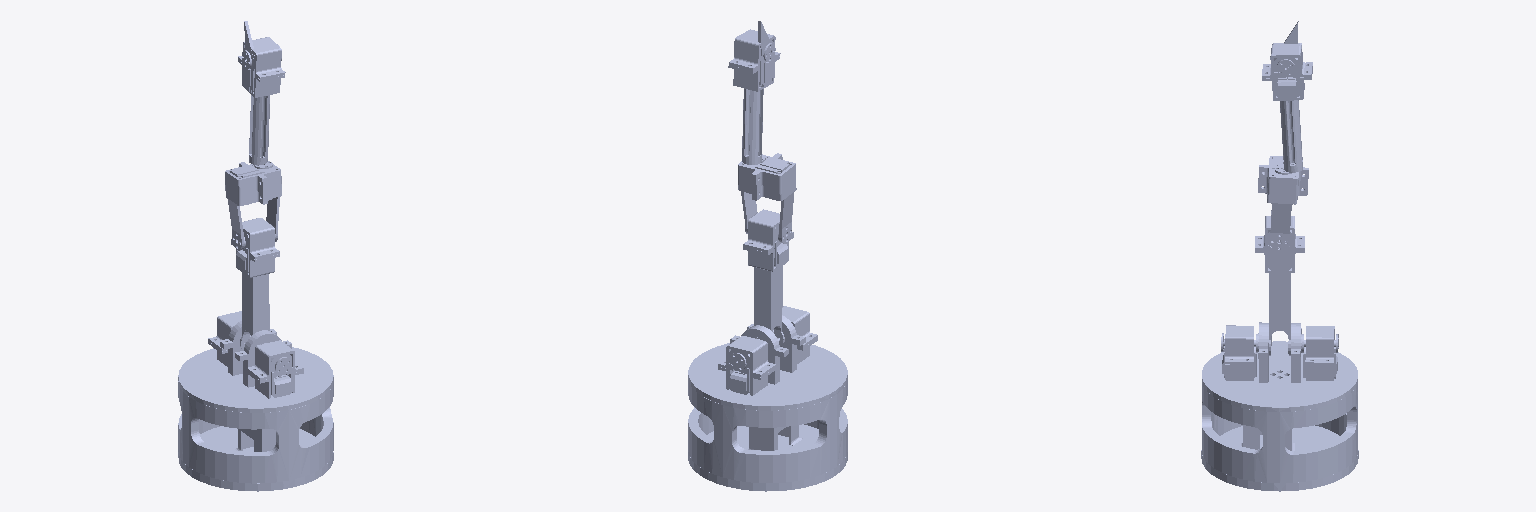
The robot description file, URDF, robot "robot_arm":
<?xml version="1.0" encoding="utf-8"?>
<!-- This URDF was automatically created by SolidWorks to URDF Exporter! Originally created by Stephen Brawner (brawner@gmail.com) 
     Commit Version: 1.6.0-4-g7f85cfe  Build Version: 1.6.7995.38578
     For more information, please see http://wiki.ros.org/sw_urdf_exporter -->
<robot
  name="robot_arm">
  <link
    name="base_link">
    <inertial>
      <origin
        xyz="-3.4691E-09 -0.0013733 0.007543"
        rpy="0 0 0" />
      <mass
        value="0.19807" />
      <inertia
        ixx="0.00032121"
        ixy="-2.33E-11"
        ixz="3.277E-12"
        iyy="0.00031349"
        iyz="7.6169E-06"
        izz="0.0005892" />
    </inertial>
    <visual>
      <origin
        xyz="0 0 0"
        rpy="0 0 0" />
      <geometry>
        <mesh
          filename="package://robot_arm/meshes/base_link.STL" />
      </geometry>
      <material
        name="">
        <color
          rgba="0.79216 0.81961 0.93333 1" />
      </material>
    </visual>
    <collision>
      <origin
        xyz="0 0 0"
        rpy="0 0 0" />
      <geometry>
        <mesh
          filename="package://robot_arm/meshes/base_link.STL" />
      </geometry>
    </collision>
  </link>
  <link
    name="Link_1">
    <inertial>
      <origin
        xyz="-1.5478E-17 -4.4748E-17 0.011342"
        rpy="0 0 0" />
      <mass
        value="0.24066" />
      <inertia
        ixx="0.00021961"
        ixy="-3.0281E-07"
        ixz="-7.6215E-20"
        iyy="0.0002036"
        iyz="-7.857E-19"
        izz="0.00037108" />
    </inertial>
    <visual>
      <origin
        xyz="0 0 0"
        rpy="0 0 0" />
      <geometry>
        <mesh
          filename="package://robot_arm/meshes/Link_1.STL" />
      </geometry>
      <material
        name="">
        <color
          rgba="0.79216 0.81961 0.93333 1" />
      </material>
    </visual>
    <collision>
      <origin
        xyz="0 0 0"
        rpy="0 0 0" />
      <geometry>
        <mesh
          filename="package://robot_arm/meshes/Link_1.STL" />
      </geometry>
    </collision>
  </link>
  <joint
    name="Joint_1"
    type="revolute">
    <origin
      xyz="0 0 0.0941"
      rpy="0 0 0" />
    <parent
      link="base_link" />
    <child
      link="Link_1" />
    <axis
      xyz="0 0 1" />
    <limit
      lower="-3.14"
      upper="3.14"
      effort="0"
      velocity="0" />
  </joint>
  <link
    name="Link_2">
    <inertial>
      <origin
        xyz="0.080358 0.0005424 0.0088242"
        rpy="0 0 0" />
      <mass
        value="0.090401" />
      <inertia
        ixx="1.3539E-05"
        ixy="-3.1808E-07"
        ixz="6.0163E-09"
        iyy="6.7249E-05"
        iyz="-5.9616E-08"
        izz="6.4097E-05" />
    </inertial>
    <visual>
      <origin
        xyz="0 0 0"
        rpy="0 0 0" />
      <geometry>
        <mesh
          filename="package://robot_arm/meshes/Link_2.STL" />
      </geometry>
      <material
        name="">
        <color
          rgba="0.79216 0.81961 0.93333 1" />
      </material>
    </visual>
    <collision>
      <origin
        xyz="0 0 0"
        rpy="0 0 0" />
      <geometry>
        <mesh
          filename="package://robot_arm/meshes/Link_2.STL" />
      </geometry>
    </collision>
  </link>
  <joint
    name="Joint_2"
    type="revolute">
    <origin
      xyz="0.00017175 0.0088483 0.034334"
      rpy="1.5708 -1.5708 0" />
    <parent
      link="Link_1" />
    <child
      link="Link_2" />
    <axis
      xyz="0 0 1" />
    <limit
      lower="-1.57"
      upper="1.57"
      effort="0"
      velocity="0" />
  </joint>
  <link
    name="Link_3">
    <inertial>
      <origin
        xyz="0.0541062471270772 -0.00354604381686915 -0.0220064974845355"
        rpy="0 0 0" />
      <mass
        value="0.05696273993258" />
      <inertia
        ixx="1.25532493264705E-05"
        ixy="4.038810934172E-07"
        ixz="2.95850913058183E-08"
        iyy="1.95793004928046E-05"
        iyz="-4.25743374682629E-08"
        izz="1.74776992259823E-05" />
    </inertial>
    <visual>
      <origin
        xyz="0 0 0"
        rpy="0 0 0" />
      <geometry>
        <mesh
          filename="package://robot_arm/meshes/Link_3.STL" />
      </geometry>
      <material
        name="">
        <color
          rgba="0.792156862745098 0.819607843137255 0.933333333333333 1" />
      </material>
    </visual>
    <collision>
      <origin
        xyz="0 0 0"
        rpy="0 0 0" />
      <geometry>
        <mesh
          filename="package://robot_arm/meshes/Link_3.STL" />
      </geometry>
    </collision>
  </link>
  <joint
    name="Joint_3"
    type="revolute">
    <origin
      xyz="0.12513 -0.020736 0.0091349"
      rpy="1.5708 0 0" />
    <parent
      link="Link_2" />
    <child
      link="Link_3" />
    <axis
      xyz="0 0 1" />
    <limit
      lower="-1.57"
      upper="1.57"
      effort="0"
      velocity="0" />
  </joint>
  <link
    name="Link_4">
    <inertial>
      <origin
        xyz="7.52705426133402E-05 0.000462811756834552 0.00858695671693732"
        rpy="0 0 0" />
      <mass
        value="0.0674532689964479" />
      <inertia
        ixx="3.93720710688711E-05"
        ixy="-4.83208580470525E-08"
        ixz="1.50463738848548E-07"
        iyy="3.82051496112177E-05"
        iyz="-1.63505049750872E-06"
        izz="9.77717247497827E-06" />
    </inertial>
    <visual>
      <origin
        xyz="0 0 0"
        rpy="0 0 0" />
      <geometry>
        <mesh
          filename="package://robot_arm/meshes/Link_4.STL" />
      </geometry>
      <material
        name="">
        <color
          rgba="0.792156862745098 0.819607843137255 0.933333333333333 1" />
      </material>
    </visual>
    <collision>
      <origin
        xyz="0 0 0"
        rpy="0 0 0" />
      <geometry>
        <mesh
          filename="package://robot_arm/meshes/Link_4.STL" />
      </geometry>
    </collision>
  </link>
  <joint
    name="Joint_4"
    type="revolute">
    <origin
      xyz="0.16019 -0.0093985 -0.0098166"
      rpy="0 1.5708 0" />
    <parent
      link="Link_3" />
    <child
      link="Link_4" />
    <axis
      xyz="0 0 1" />
    <limit
      lower="-3.14"
      upper="3.14"
      effort="0"
      velocity="0" />
  </joint>
  <link
    name="End_Effector">
    <inertial>
      <origin
        xyz="0.00878258139730009 -0.00234120487883826 0.00381053635874969"
        rpy="0 0 0" />
      <mass
        value="0.00185906518982787" />
      <inertia
        ixx="5.36992775192672E-08"
        ixy="5.49967375111194E-08"
        ixz="-1.1655036355356E-09"
        iyy="2.27532299935667E-07"
        iyz="2.18796546028271E-09"
        izz="2.77224509924143E-07" />
    </inertial>
    <visual>
      <origin
        xyz="0 0 0"
        rpy="0 0 0" />
      <geometry>
        <mesh
          filename="package://robot_arm/meshes/End_Effector.STL" />
      </geometry>
      <material
        name="">
        <color
          rgba="0.792156862745098 0.819607843137255 0.933333333333333 1" />
      </material>
    </visual>
    <collision>
      <origin
        xyz="0 0 0"
        rpy="0 0 0" />
      <geometry>
        <mesh
          filename="package://robot_arm/meshes/End_Effector.STL" />
      </geometry>
    </collision>
  </link>
  <joint
    name="Joint_5"
    type="revolute">
    <origin
      xyz="0.016421 0.0012653 0.038182"
      rpy="0 -1.5708 0" />
    <parent
      link="Link_4" />
    <child
      link="End_Effector" />
    <axis
      xyz="0 0 1" />
    <limit
      lower="-1.57"
      upper="1.57"
      effort="0"
      velocity="0" />
  </joint>
</robot>

--- Facts derived from the render (not from the file) ---
Views: 3 orthographic renders of the robot side by side, from view 1: azimuth 30°, elevation 25°; view 2: azimuth 150°, elevation 25°; view 3: azimuth 270°, elevation 25°.
Robot: robot_arm — 6 links, 5 joints (5 revolute); root link base_link; default pose: all joints at 0.
Visible links, largest first — view 1: base_link, Link_1, Link_2, Link_4, Link_3; view 2: base_link, Link_1, Link_2, Link_4, Link_3; view 3: base_link, Link_1, Link_4, Link_2, Link_3.
Boxes of the visible links, <box> form: base_link: <box>178,381,333,491</box>; Link_1: <box>178,311,333,412</box>; Link_2: <box>231,218,279,350</box>; Link_4: <box>238,37,285,164</box>; Link_3: <box>225,161,281,250</box>; base_link: <box>688,379,847,491</box>; Link_1: <box>688,306,847,410</box>; Link_2: <box>743,209,793,346</box>; Link_4: <box>728,29,780,164</box>; Link_3: <box>738,153,796,243</box>; base_link: <box>1201,384,1358,491</box>; Link_1: <box>1202,322,1357,411</box>; Link_4: <box>1262,43,1312,172</box>; Link_2: <box>1255,216,1304,355</box>; Link_3: <box>1258,156,1308,250</box>.
Size in the robot's own frame: 0.16 by 0.16 by 0.4904 metres.
Meshes: 6 distinct files referenced, 6 mesh visuals loaded (6 binary STL).
